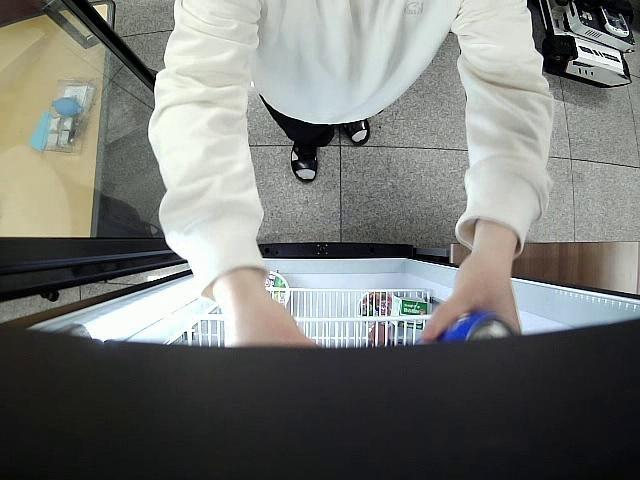13_pocariSweat: (439, 312, 516, 340)
